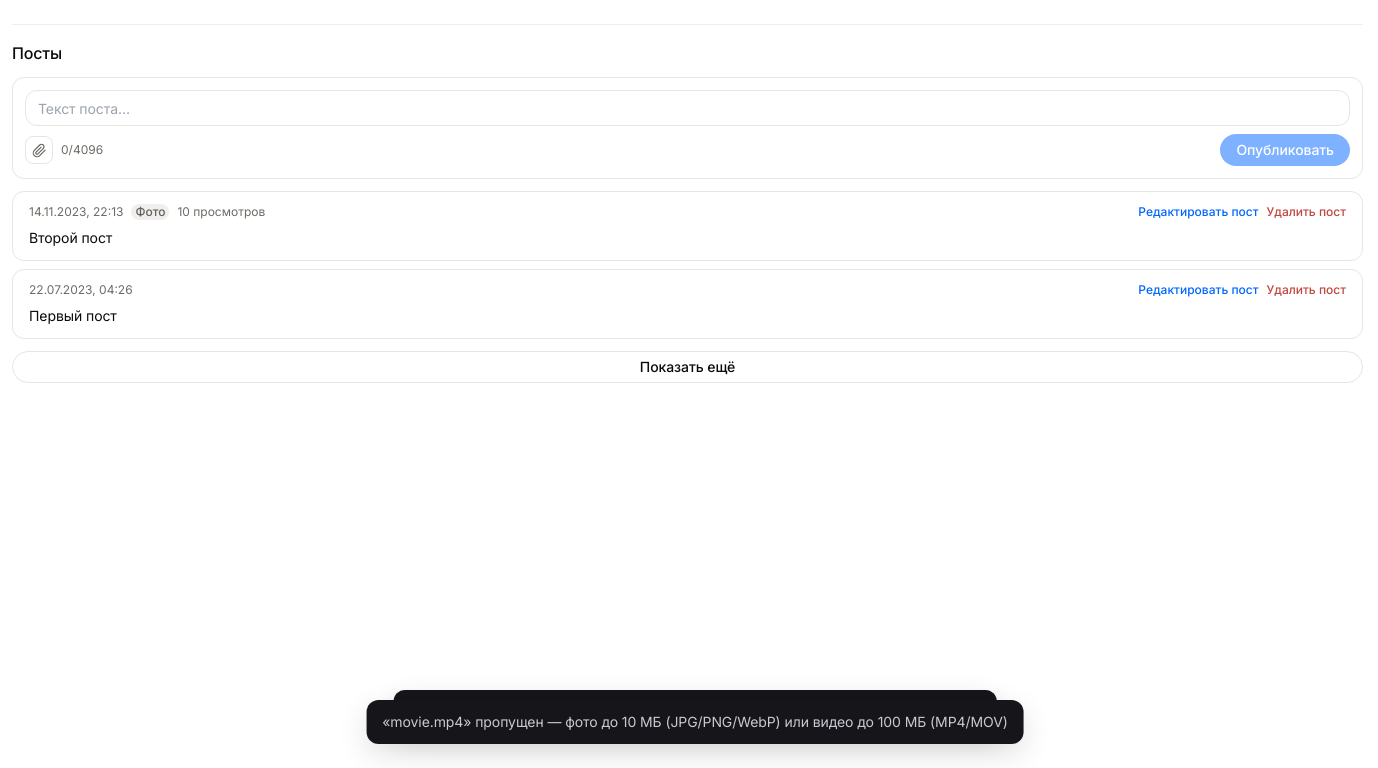
load more fetches the next cursor page and appends it
The width and height of the screenshot is (1378, 768).
Expected: the text "Второй пост" is shown, [29,229,112,246]
Click the button "Показать ещё": (688, 367) [12,351,1363,383]
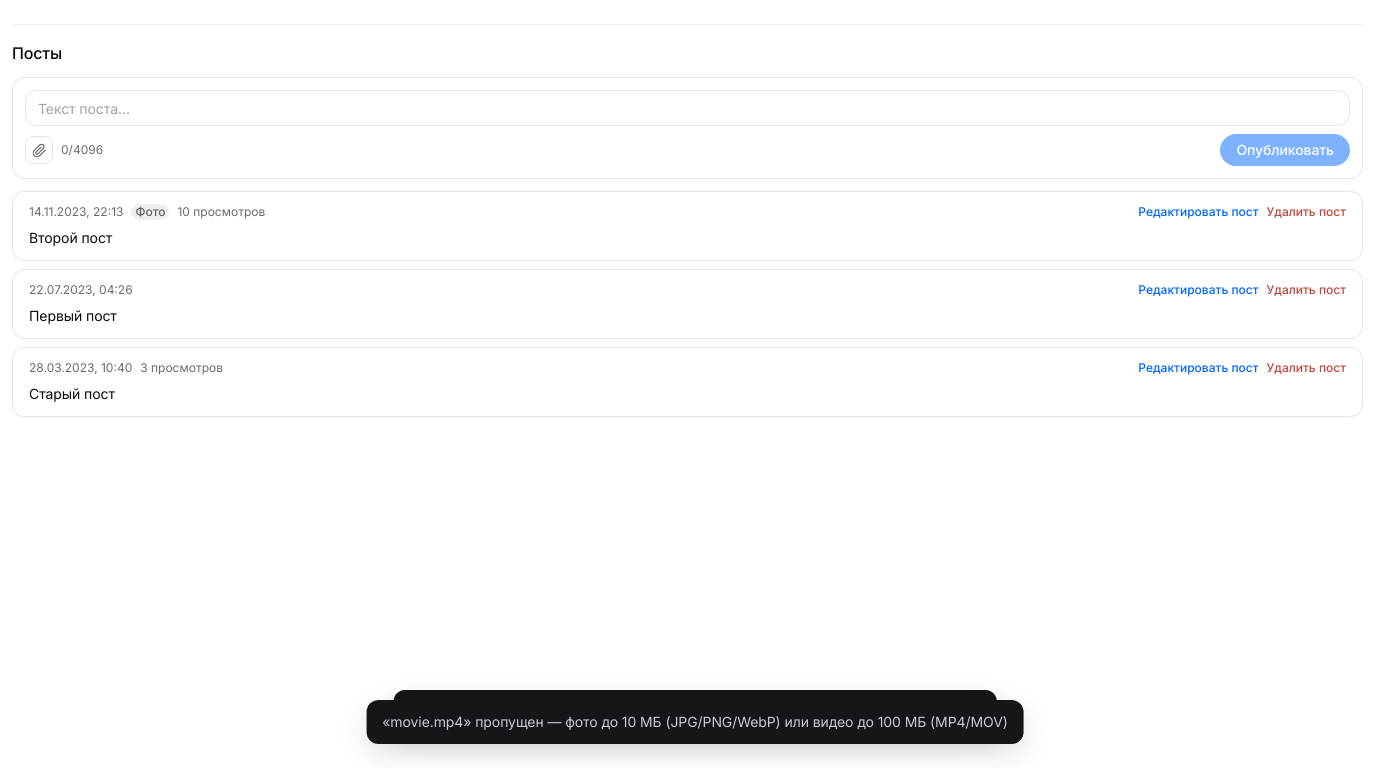
Expected: the text "Второй пост" is shown, [29,229,112,246]
Result: the text "Старый пост" is shown at [29,385,115,402]
Result: the button "Показать ещё" is gone
